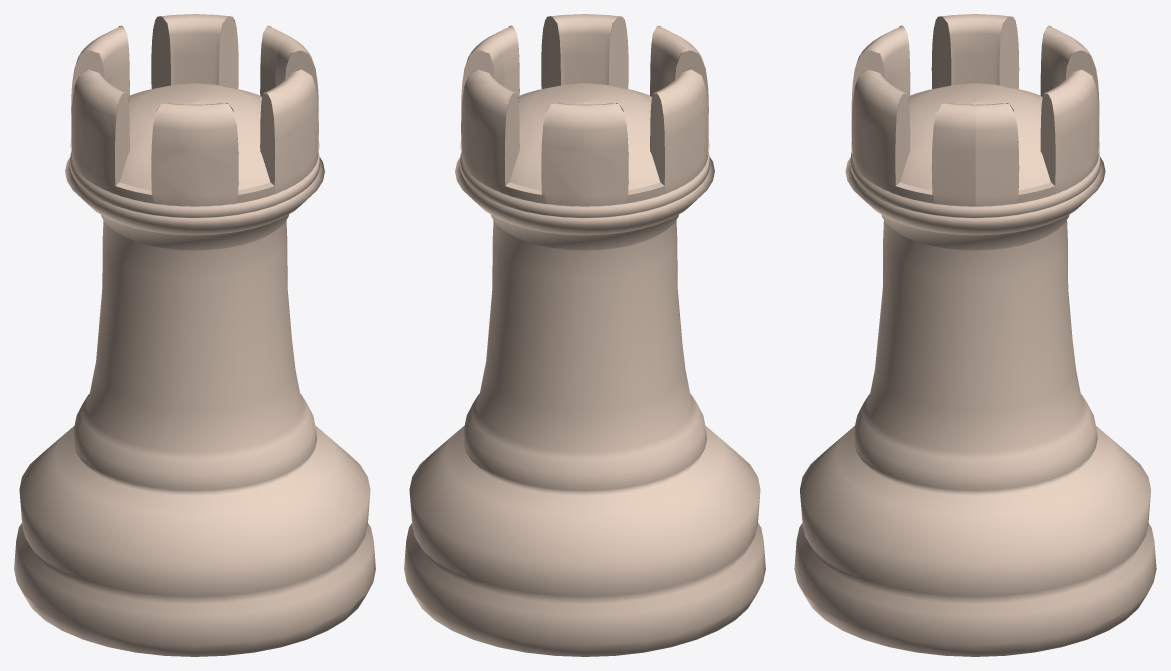
Rendered from Rook.fbx.
3 views of the same model, side by side, from view 1: azimuth 30°, elevation 25°; view 2: azimuth 150°, elevation 25°; view 3: azimuth 270°, elevation 25° (orthographic).
Parts seen in each view (by area): view 1: Rook; view 2: Rook; view 3: Rook.
Part boxes in pixels (box(x1,y1,x2,y2)): Rook: box(14, 14, 375, 656); Rook: box(404, 14, 765, 656); Rook: box(794, 14, 1156, 656).
Bounding box in the file's own units: 3.86 × 6.18 × 3.86.
